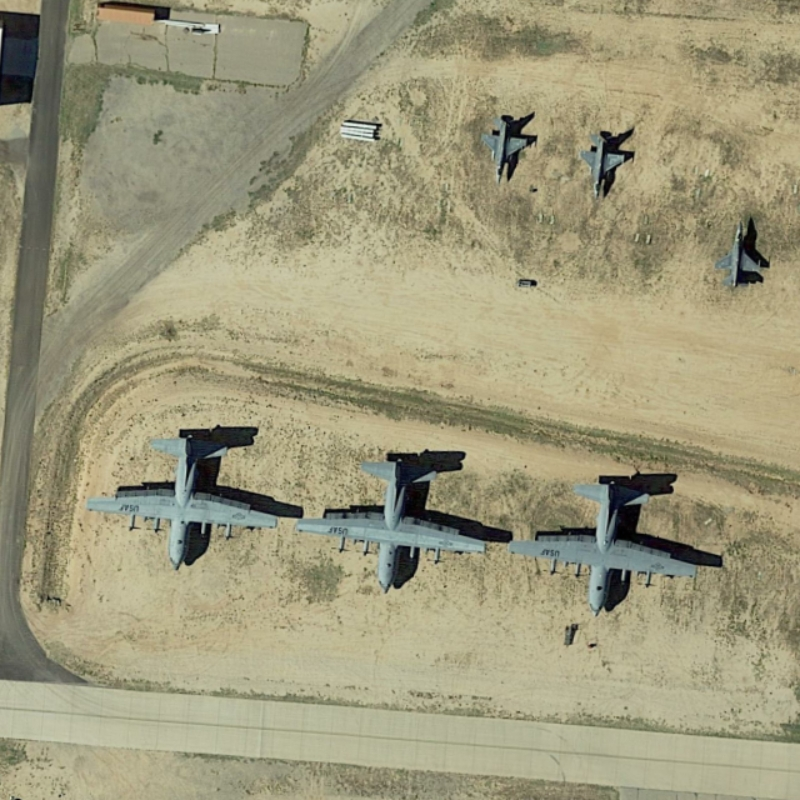A2: (81, 421, 281, 578), (293, 445, 494, 600), (507, 475, 704, 617)
A5: (709, 217, 772, 291), (575, 128, 628, 201), (478, 114, 531, 186)
